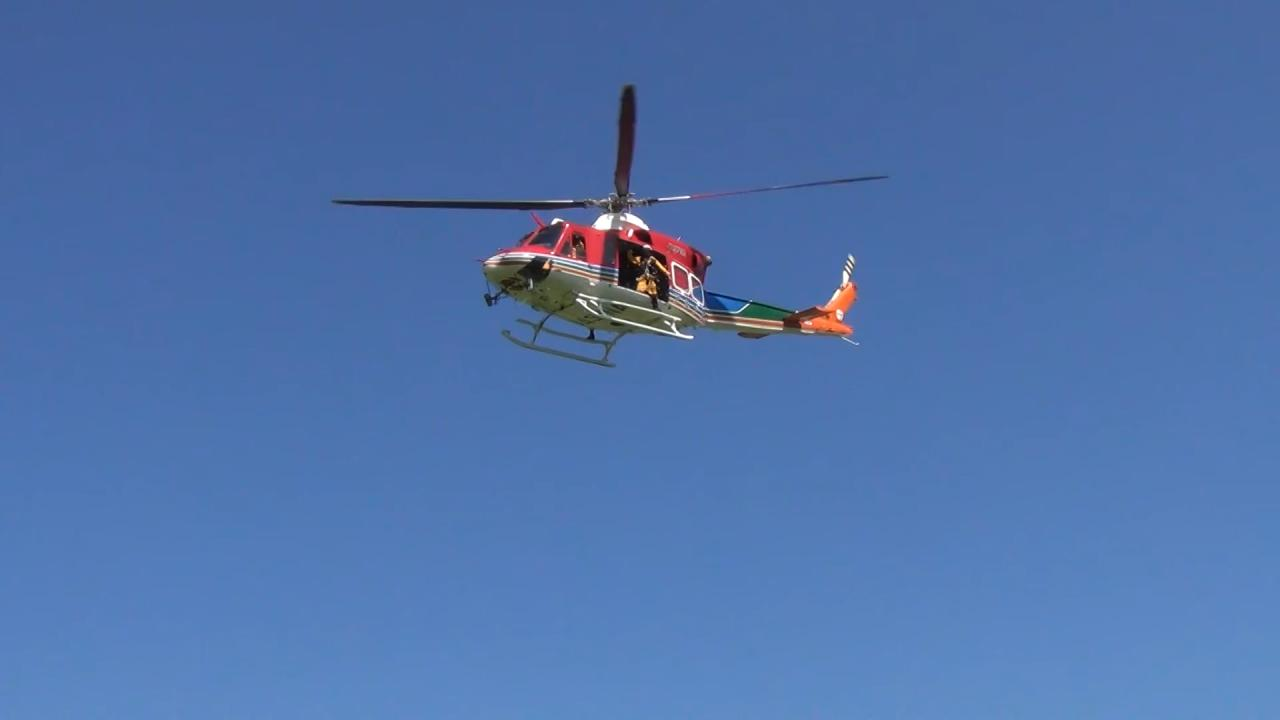Helicopter: (318, 66, 918, 394)
